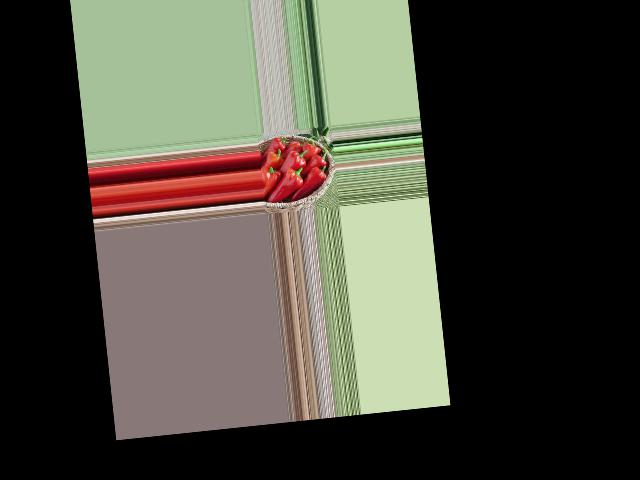bell_pepper: (307, 151, 330, 169)
